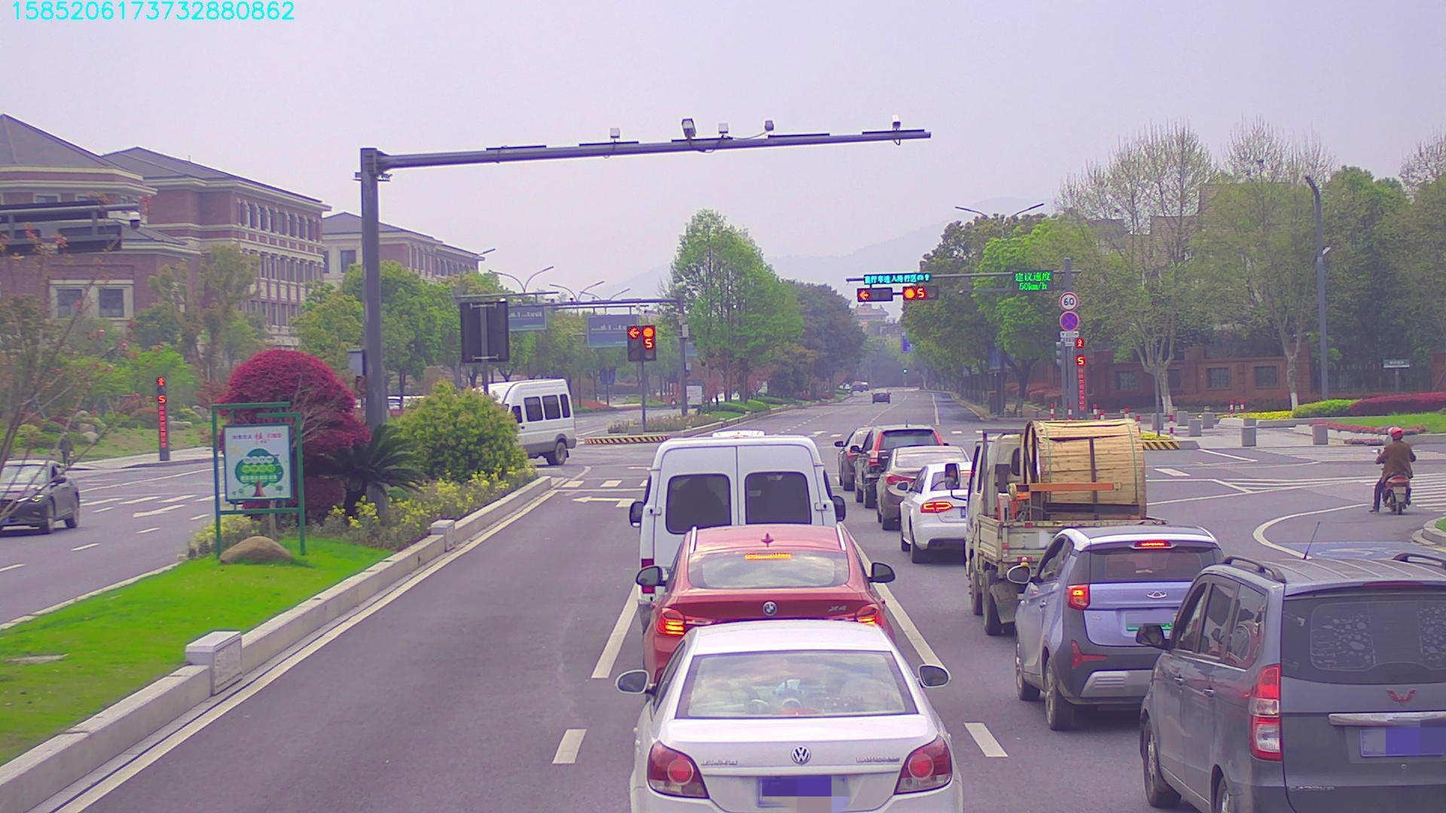red: (903, 285, 941, 302), (853, 288, 889, 302)
wait_on: (862, 269, 939, 285)
